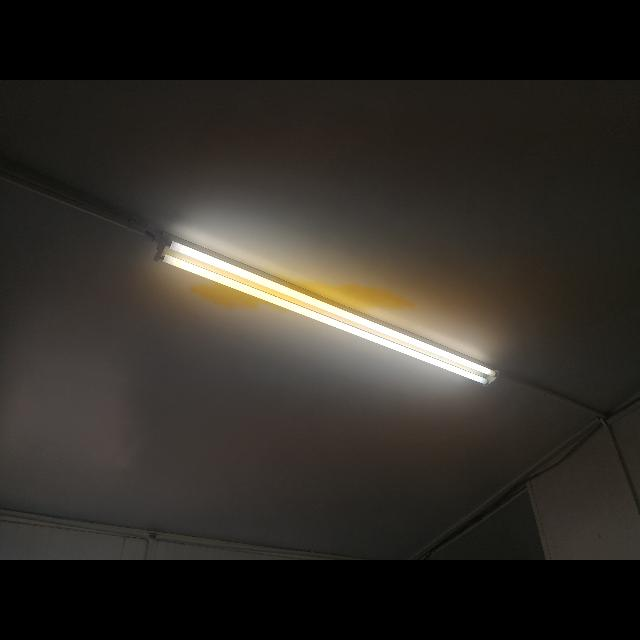Straight-Tube-Fluorescent-Lamp: (136, 230, 514, 400)
